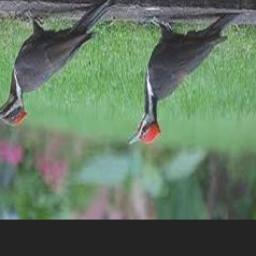Woodpecker: (127, 14, 240, 146), (0, 0, 115, 128)
